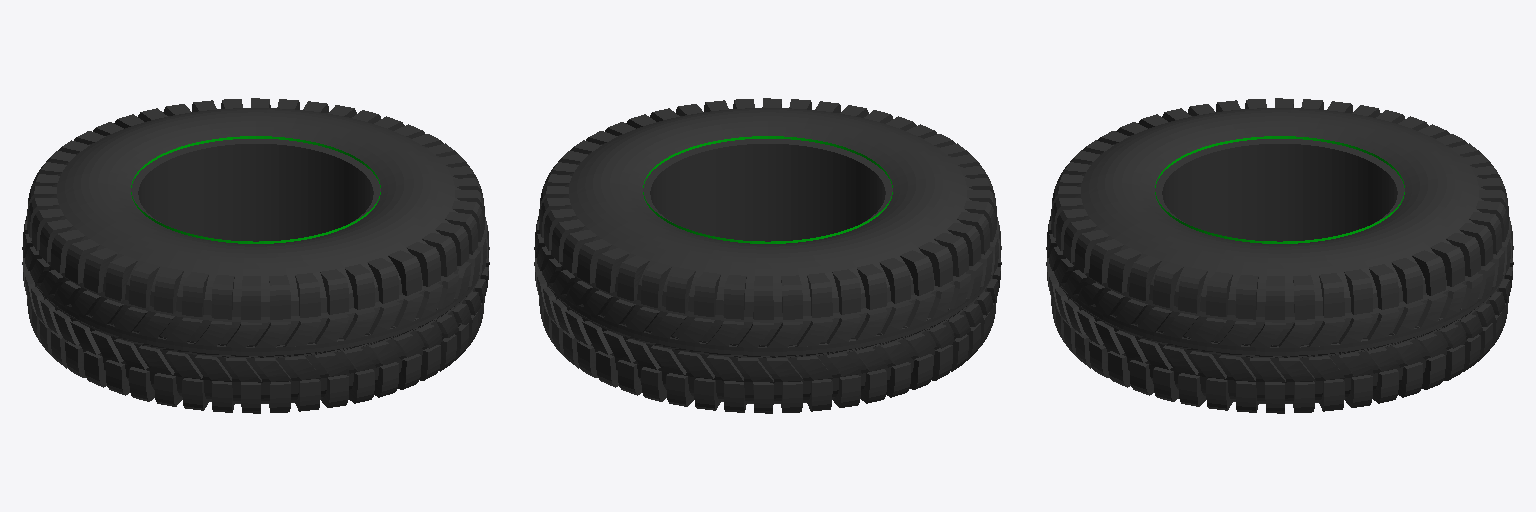
The model's file is right_tire.obj.
3 views of the same model, side by side, from view 1: azimuth 30°, elevation 25°; view 2: azimuth 150°, elevation 25°; view 3: azimuth 270°, elevation 25° (orthographic).
Parts seen in each view (by area): view 1: Tire_wheel1.001; view 2: Tire_wheel1.001; view 3: Tire_wheel1.001.
Part boxes in pixels (left/top/right/bottom): Tire_wheel1.001: left=22, top=98, right=489, bottom=413; Tire_wheel1.001: left=534, top=98, right=1001, bottom=413; Tire_wheel1.001: left=1046, top=98, right=1513, bottom=413.
Size of the model in its own units: 0.9067 by 0.3128 by 0.9067.